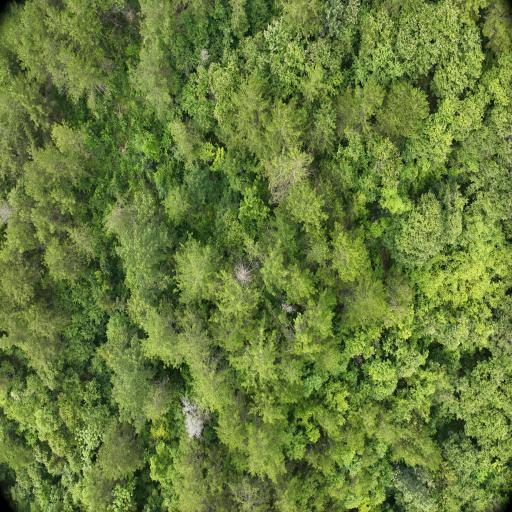dead-tree: (186, 410, 205, 440), (237, 258, 257, 284)
